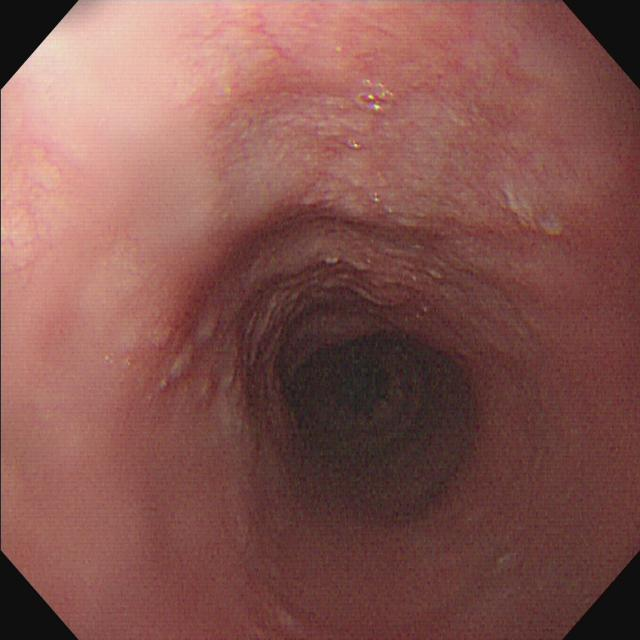E: (287, 324, 442, 483)
